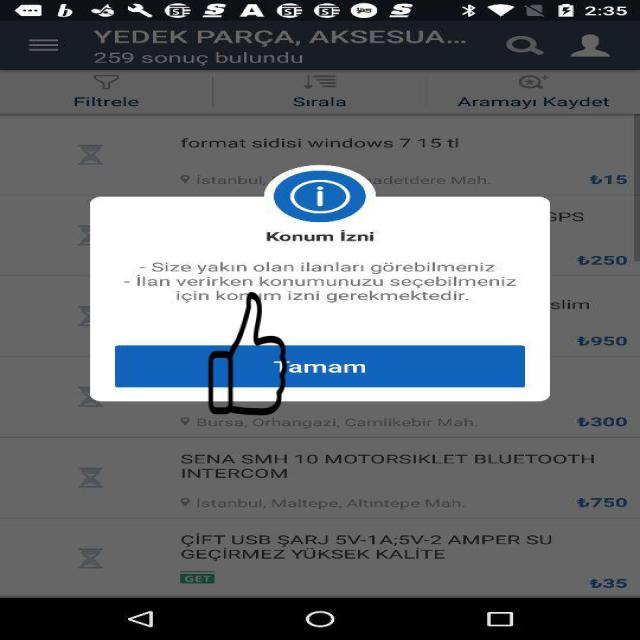privacy zuckering: (207, 292, 288, 415)
